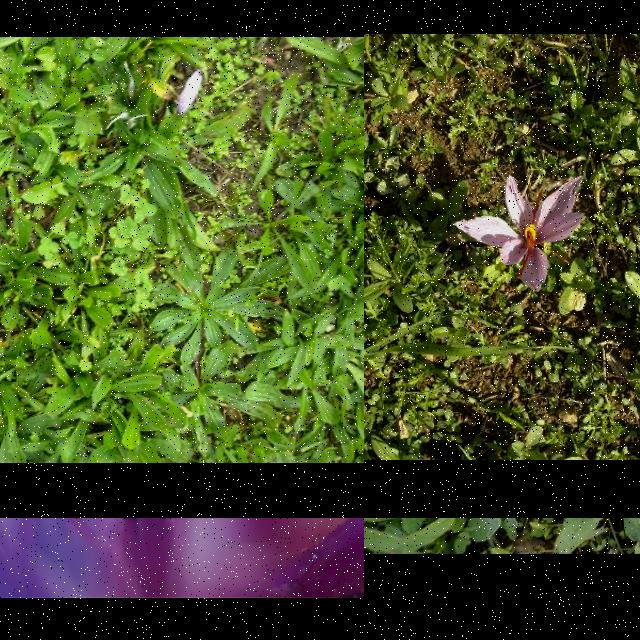flower: (457, 175, 587, 292), (178, 70, 204, 114)
